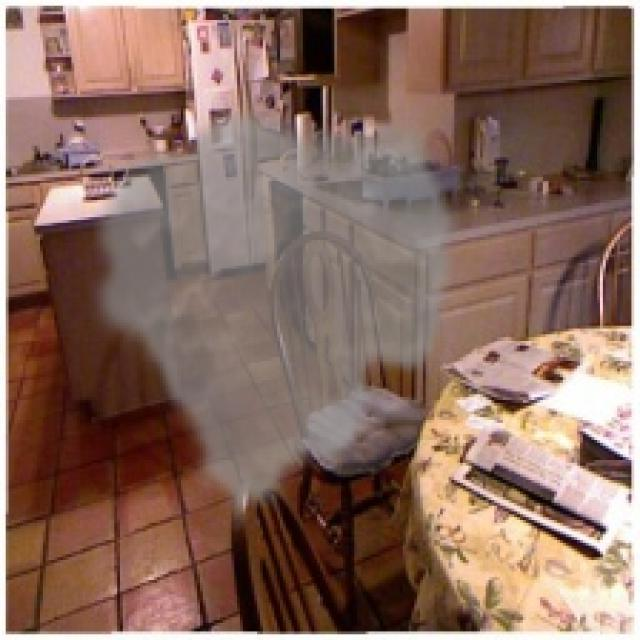Smoke: (83, 106, 463, 520)
